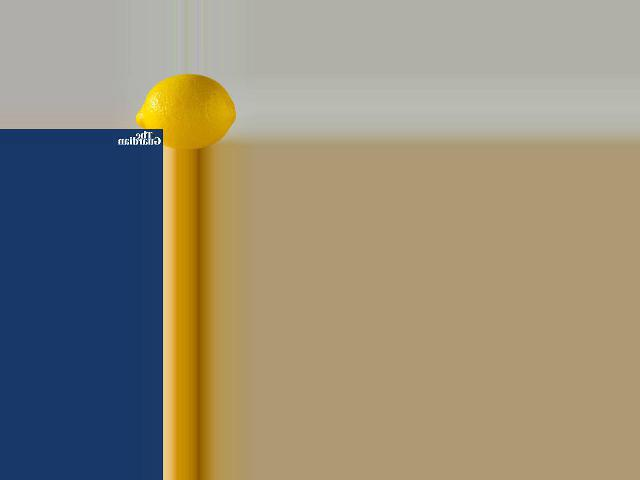lemon: (132, 73, 244, 150)
